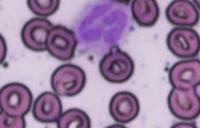N: (71, 0, 133, 55)
